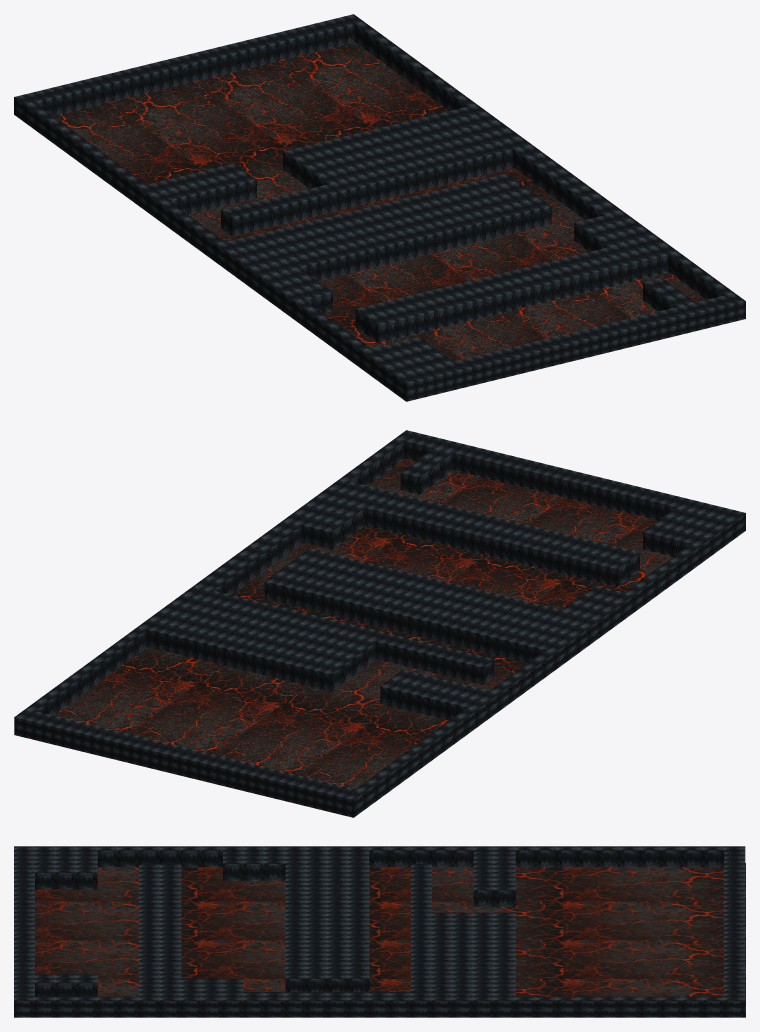
File: map_3.FBX
3 views of the same model, one above another, from view 1: azimuth 30°, elevation 25°; view 2: azimuth 150°, elevation 25°; view 3: azimuth 270°, elevation 25° (orthographic). The views are drawn at different scales.
Visible parts, largest first — view 1: Box146, Plane001; view 2: Box146, Plane001; view 3: Box146, Plane001.
Boxes of the visible parts, x1,y1,x2,y2 form: Box146: (14, 14, 745, 401); Plane001: (53, 42, 706, 361); Box146: (14, 430, 745, 817); Plane001: (15, 458, 672, 817); Box146: (14, 846, 745, 1017); Plane001: (35, 863, 745, 1017).
Bounding box in the file's own units: 100 × 5 × 200.
2 materials, 2 textured.
